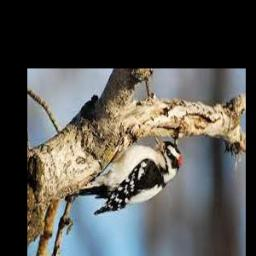Woodpecker: (65, 135, 181, 214)
